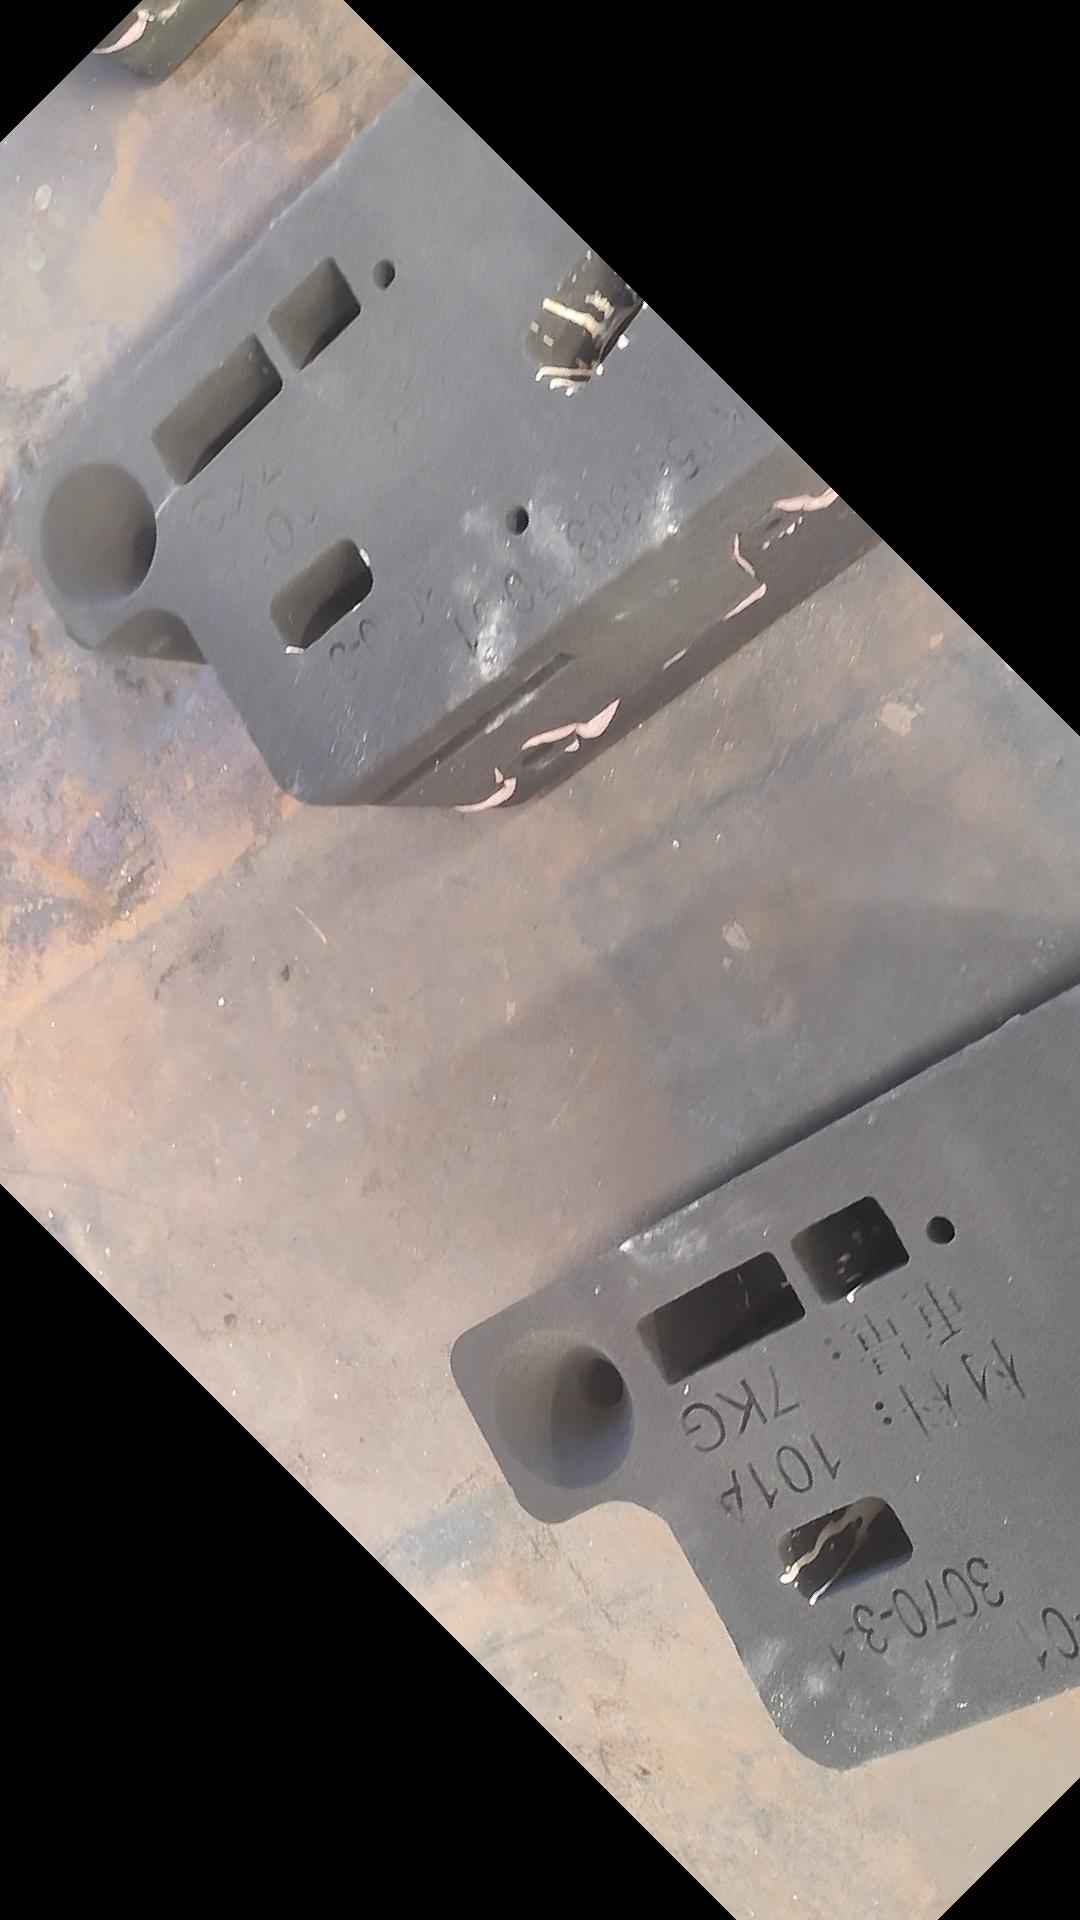pouring hole: (488, 1331, 633, 1489), (40, 463, 157, 607)
